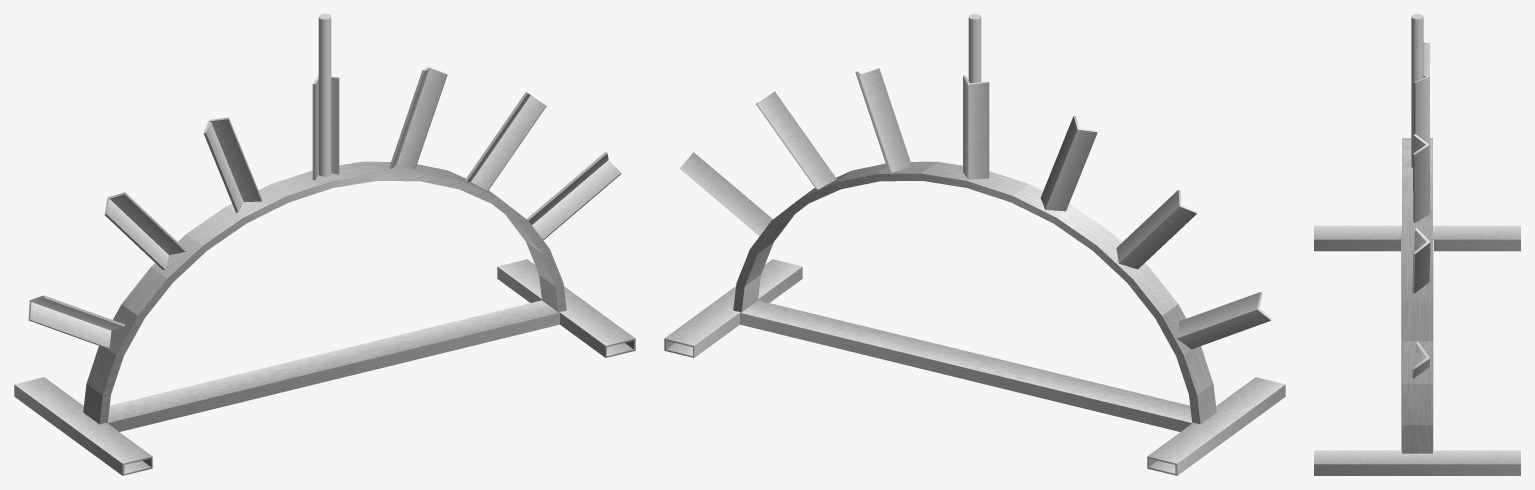
File: 30mmRack7Shot.fbx
The picture shows the model from 3 angles, left to right: view 1: azimuth 30°, elevation 25°; view 2: azimuth 150°, elevation 25°; view 3: azimuth 270°, elevation 25°; orthographic projection. The views are drawn at different scales.
Visible parts, largest first — view 1: Arc, Arc Bottom, Support Leg.001, Support Leg, Candle Holder.006, Candle Holder.005, Candle Holder.001, Candle Holder.004, Candle Holder.002, Candle Holder.003, 30mmCandle, Candle Holder; view 2: Arc Bottom, Arc, Support Leg.001, Support Leg, Candle Holder.003, Candle Holder.002, Candle Holder, Candle Holder.004, Candle Holder.001, Candle Holder.005, Candle Holder.006, 30mmCandle; view 3: Arc, Support Leg, Support Leg.001, Candle Holder.004, 30mmCandle, Candle Holder, Candle Holder.005, Arc Bottom, Candle Holder.006, Candle Holder.001.
Part boxes in pixels (left/top/right/bottom): Arc: left=83, top=161, right=566, bottom=424; Arc Bottom: left=107, top=300, right=559, bottom=431; Support Leg.001: left=14, top=377, right=152, bottom=475; Support Leg: left=497, top=259, right=635, bottom=357; Candle Holder.006: left=526, top=151, right=621, bottom=240; Candle Holder.005: left=465, top=92, right=546, bottom=191; Candle Holder.001: left=203, top=117, right=262, bottom=212; Candle Holder.004: left=389, top=67, right=447, bottom=169; Candle Holder.002: left=104, top=192, right=185, bottom=269; Candle Holder.003: left=28, top=295, right=124, bottom=348; 30mmCandle: left=318, top=14, right=331, bottom=176; Candle Holder: left=312, top=75, right=339, bottom=180; Arc Bottom: left=740, top=300, right=1192, bottom=431; Arc: left=733, top=161, right=1216, bottom=424; Support Leg.001: left=1147, top=377, right=1285, bottom=475; Support Leg: left=664, top=259, right=802, bottom=357; Candle Holder.003: left=1176, top=292, right=1271, bottom=349; Candle Holder.002: left=1116, top=189, right=1197, bottom=269; Candle Holder: left=963, top=75, right=989, bottom=179; Candle Holder.004: left=855, top=68, right=912, bottom=172; Candle Holder.001: left=1040, top=116, right=1097, bottom=211; Candle Holder.005: left=756, top=91, right=836, bottom=189; Candle Holder.006: left=679, top=152, right=772, bottom=236; 30mmCandle: left=968, top=14, right=981, bottom=83; Arc: left=1402, top=138, right=1432, bottom=453; Support Leg: left=1314, top=450, right=1520, bottom=475; Support Leg.001: left=1314, top=225, right=1520, bottom=251; Candle Holder.004: left=1413, top=134, right=1430, bottom=222; 30mmCandle: left=1411, top=14, right=1423, bottom=167; Candle Holder: left=1413, top=74, right=1429, bottom=163; Candle Holder.005: left=1412, top=228, right=1430, bottom=293; Arc Bottom: left=1401, top=240, right=1433, bottom=450; Candle Holder.006: left=1411, top=341, right=1429, bottom=378; Candle Holder.001: left=1423, top=42, right=1430, bottom=76.
Bounding box in the file's own units: 314 × 182 × 100.
8 materials, 8 textured.
